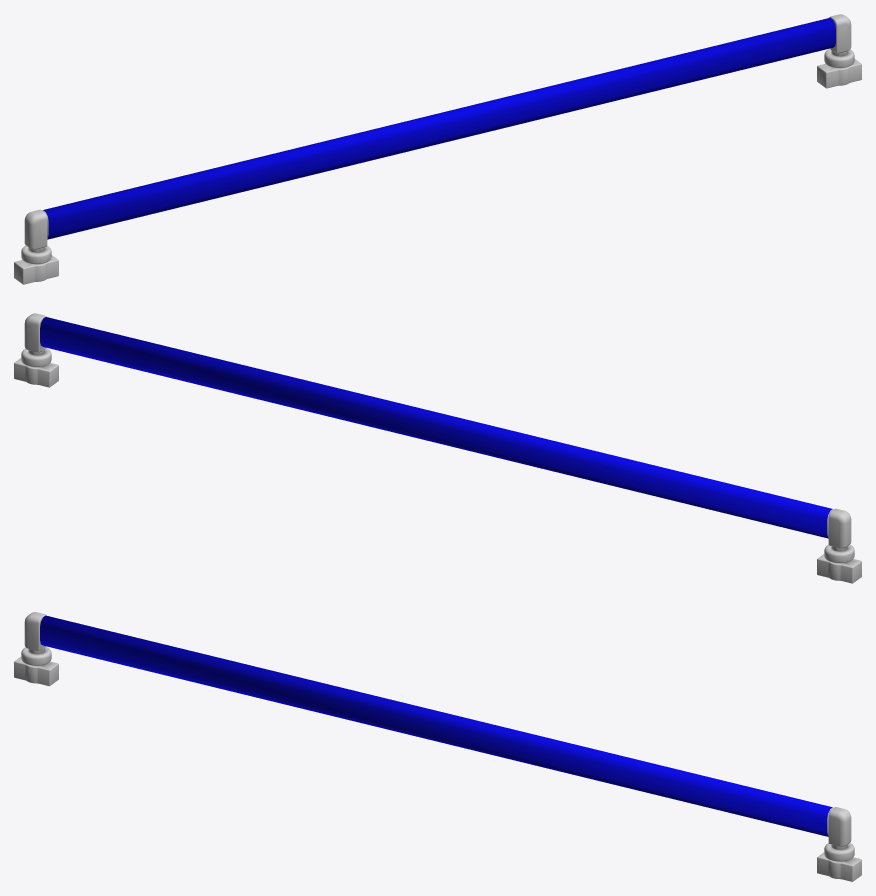
The model's file is handrail_41_5.dae.
The picture shows the model from 3 angles, top to bottom: view 1: azimuth 30°, elevation 25°; view 2: azimuth 150°, elevation 25°; view 3: azimuth 330°, elevation 25°; orthographic projection.
Visible parts, largest first — view 1: handrail_41_5_001; view 2: handrail_41_5_001; view 3: handrail_41_5_001.
Boxes of the visible parts, left/top/right/bottom form: handrail_41_5_001: left=14, top=14, right=861, bottom=284; handrail_41_5_001: left=14, top=313, right=861, bottom=583; handrail_41_5_001: left=14, top=612, right=861, bottom=881.
Bounding box in the file's own units: 1.06 × 0.0332 × 0.0784.
